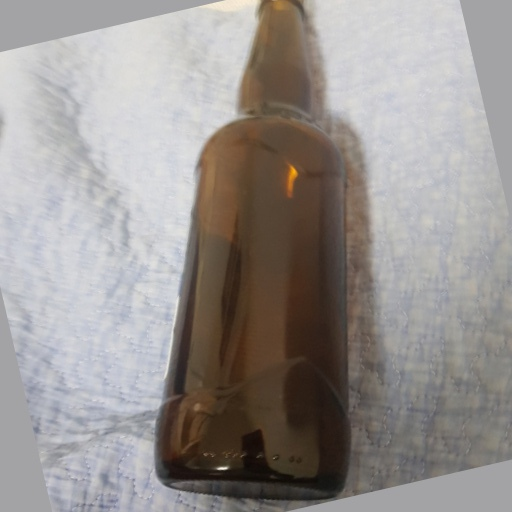Glass_1: (157, 1, 353, 501)
